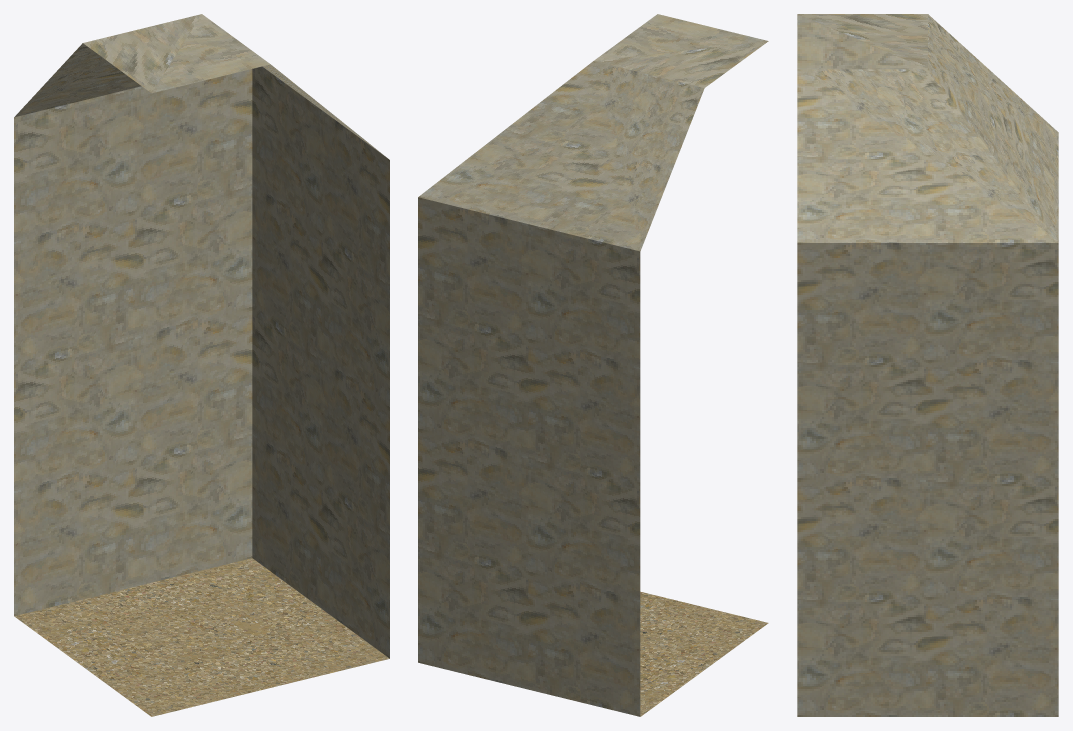
File: wall4.glb
3 views of the same model, side by side, from view 1: azimuth 30°, elevation 25°; view 2: azimuth 150°, elevation 25°; view 3: azimuth 270°, elevation 25° (orthographic). The views are drawn at different scales.
Visible parts, largest first — view 1: wall3-col; view 2: wall3-col; view 3: wall3-col.
Boxes of the visible parts, x1=… form: wall3-col: x1=14, y1=14, x2=389, y2=716; wall3-col: x1=418, y1=14, x2=768, y2=716; wall3-col: x1=797, y1=14, x2=1058, y2=716.
Size of the model in its own units: 1 by 2.5 by 1.
2 materials, 2 textured.
